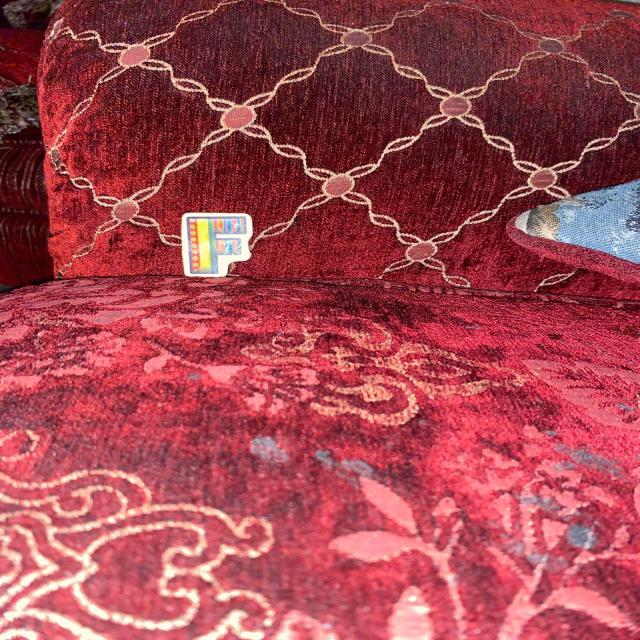F: (182, 213, 252, 277)
